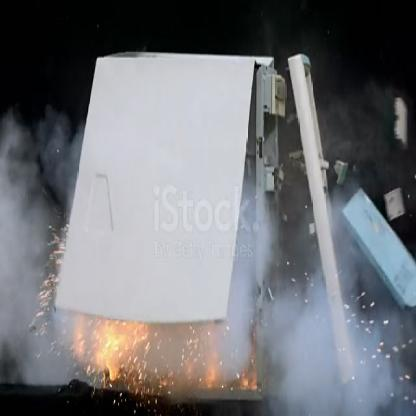fire: (73, 312, 254, 393)
smoke: (0, 102, 414, 416)
